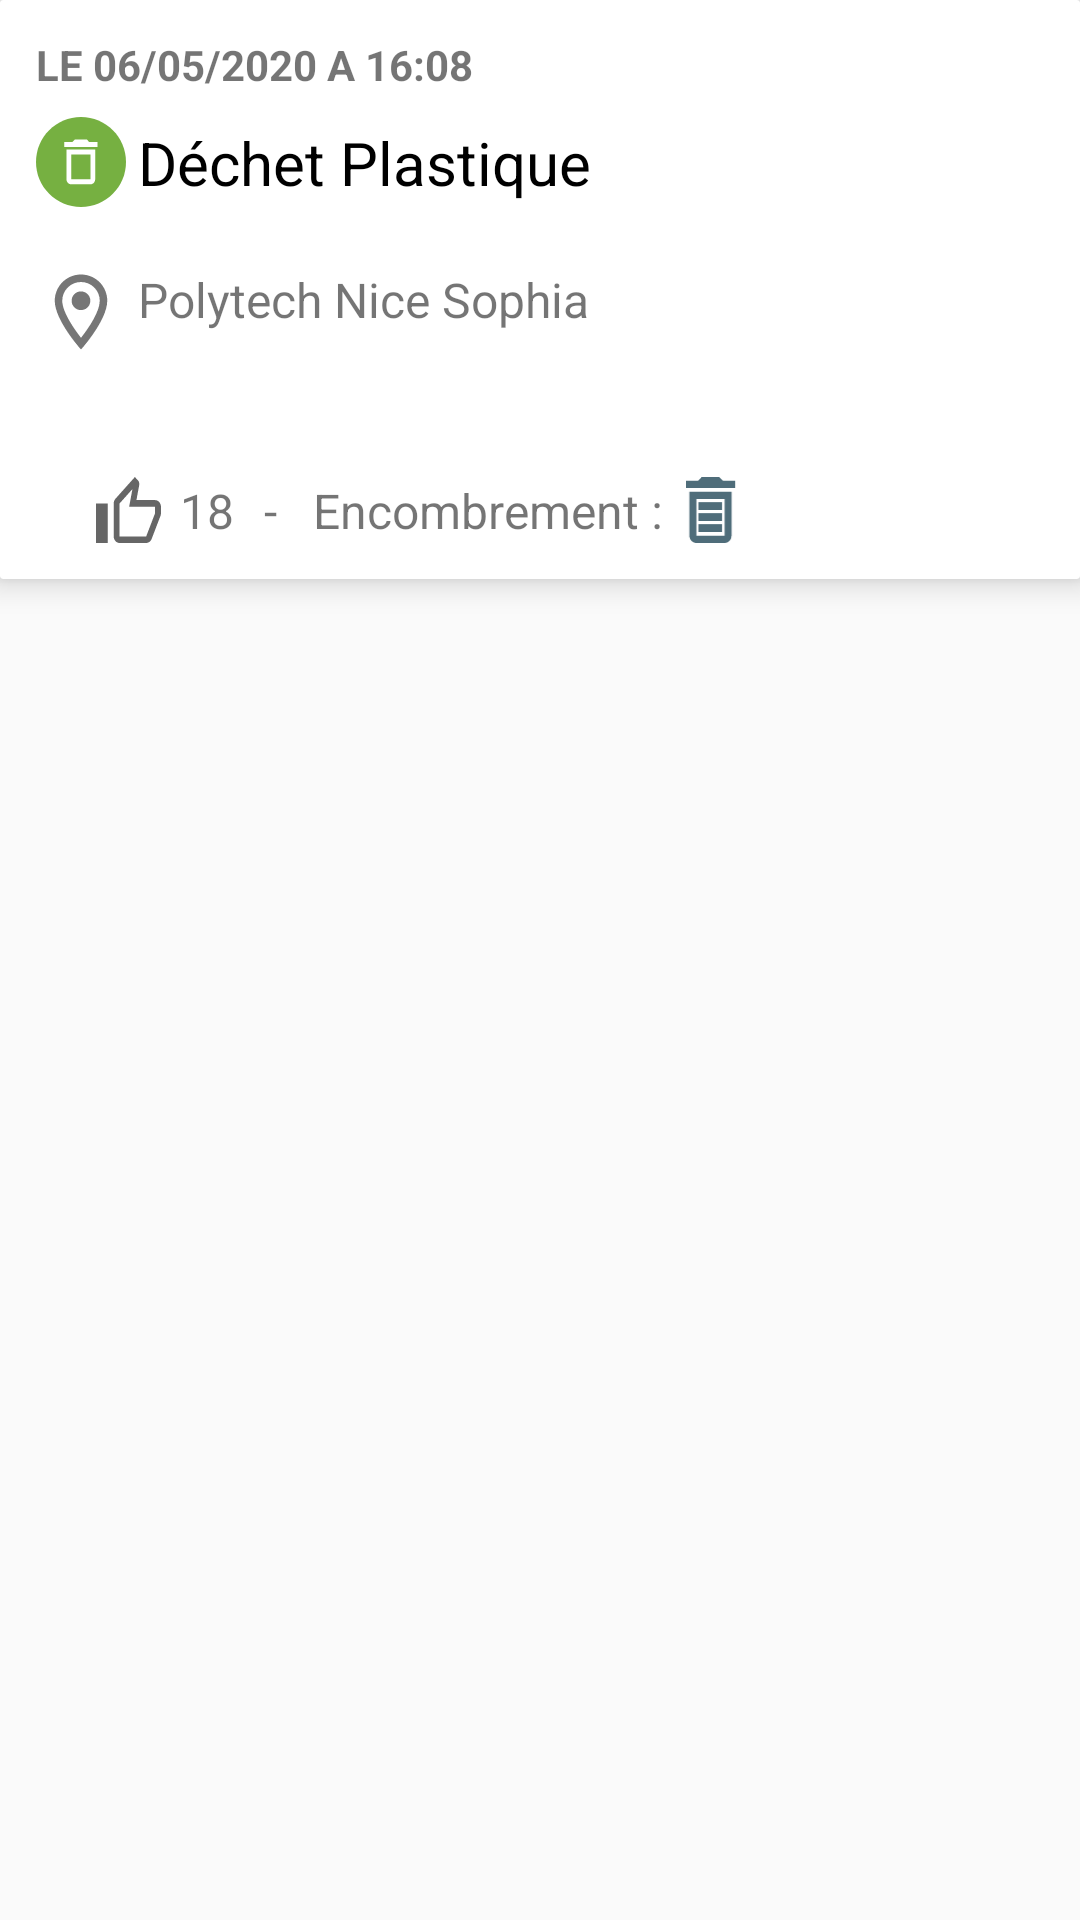

Named icons in this screenshot (1080w x 1920h) and their centers, point (x, y):
bin: point (711, 510)
like: point (128, 510)
localisationtrash: point (81, 311)
